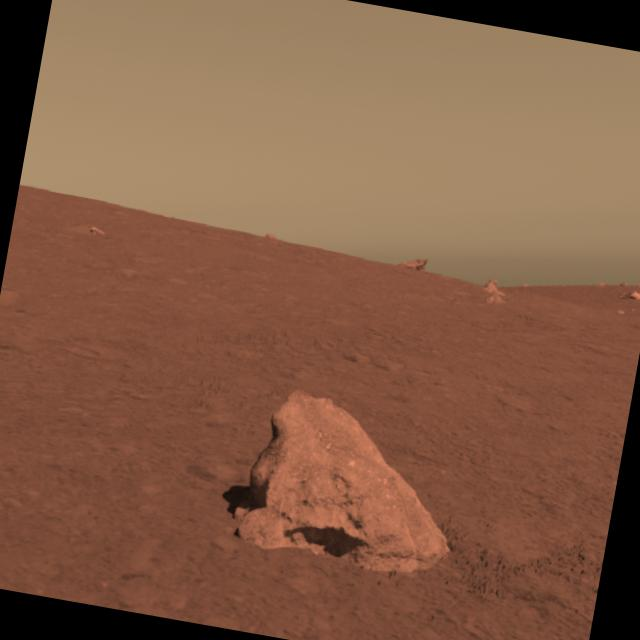rock: (218, 370, 481, 588)
